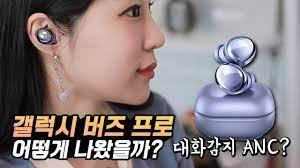earphone: (36, 28, 55, 44)
